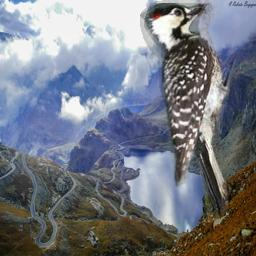Woodpecker: (137, 0, 243, 223)
